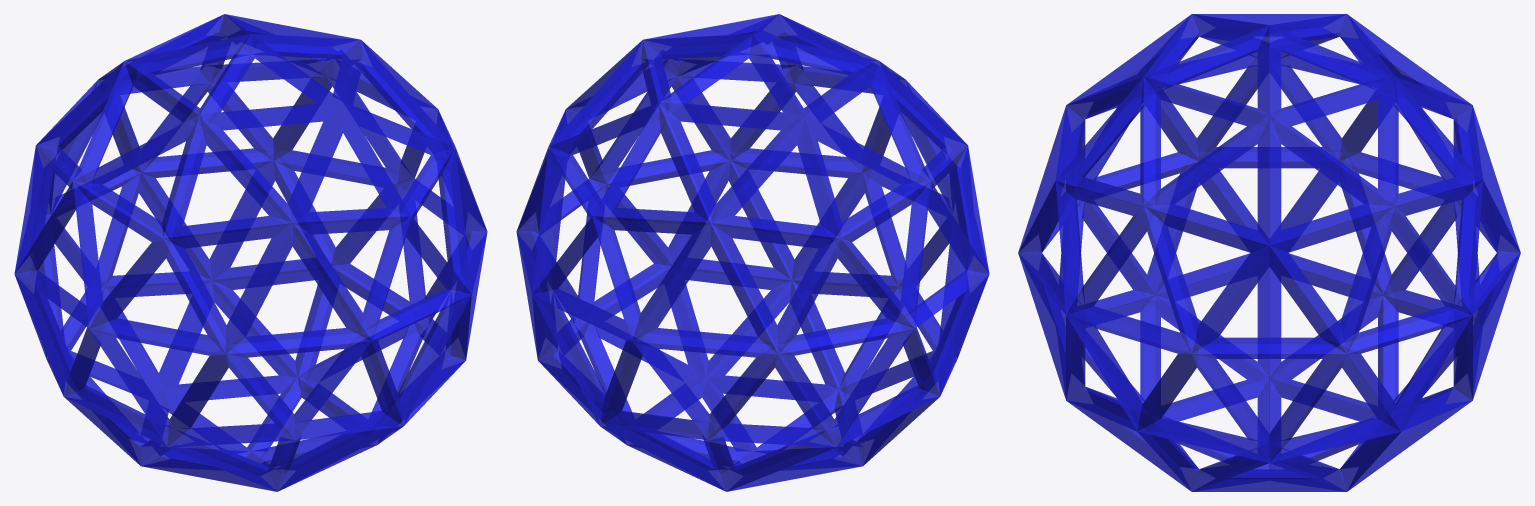
The model's file is shield.glb.
3 renders of one model, left to right at view 1: azimuth 30°, elevation 25°; view 2: azimuth 150°, elevation 25°; view 3: azimuth 270°, elevation 25°, orthographic. The views are drawn at different scales.
Visible parts, largest first — view 1: Icosphere; view 2: Icosphere; view 3: Icosphere.
Part boxes in pixels (box(x1,y1,x2,y2)): Icosphere: box(14, 14, 487, 491); Icosphere: box(516, 14, 989, 491); Icosphere: box(1018, 14, 1520, 491).
Size of the model in its own units: 3.99 by 4.2 by 4.2.
